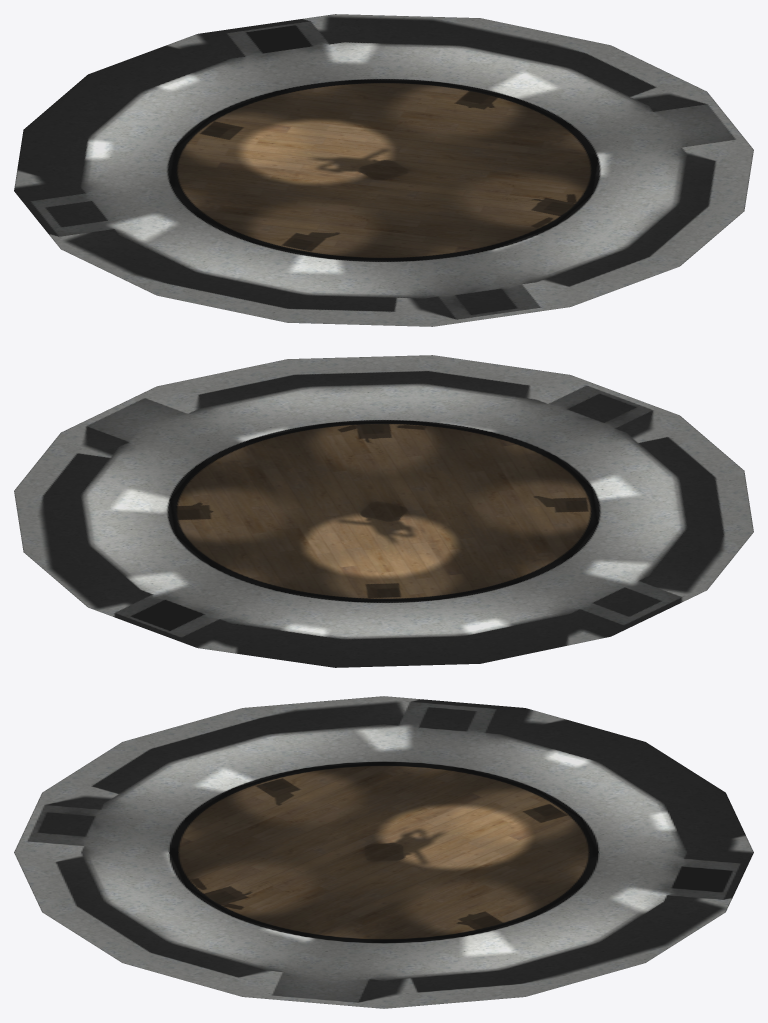
The picture shows the model from 3 angles, top to bottom: view 1: azimuth 30°, elevation 25°; view 2: azimuth 150°, elevation 25°; view 3: azimuth 270°, elevation 25°; orthographic projection.
Visible parts, largest first — view 1: floor; view 2: floor; view 3: floor.
Boxes of the visible parts, x1,y1,x2,y2 form: floor: [14, 14, 753, 326]; floor: [14, 355, 753, 667]; floor: [14, 696, 753, 1008].
Bounding box in the file's own units: 1751 × 3.89e-13 × 1751.
1 material, 1 textured.
